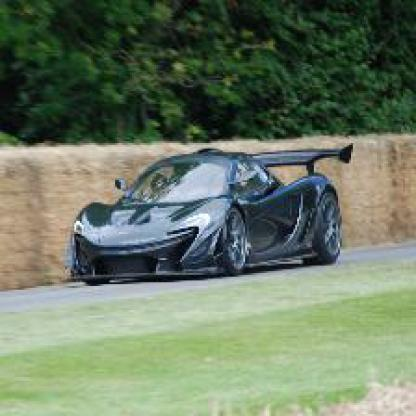not_emergency: (63, 141, 385, 295)
